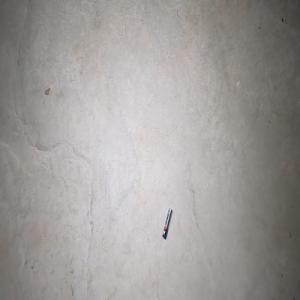Battery: (162, 207, 173, 239)
